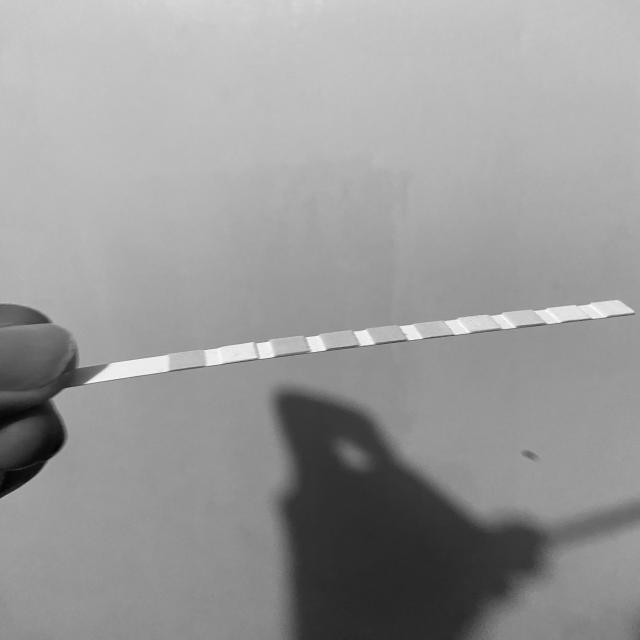Bilirubin: (224, 346, 253, 359)
Blood: (373, 328, 400, 339)
Glucose: (170, 354, 202, 366)
Ketone: (274, 339, 302, 352)
Leukocytes: (608, 302, 621, 314)
Nitrite: (561, 307, 576, 319)
Protein: (470, 316, 490, 329)
SpGravity: (326, 333, 352, 345)
Urobilinogen: (516, 311, 533, 324)
background: (0, 0, 640, 640)
pH: (423, 323, 445, 335)
strip: (70, 300, 635, 387)
